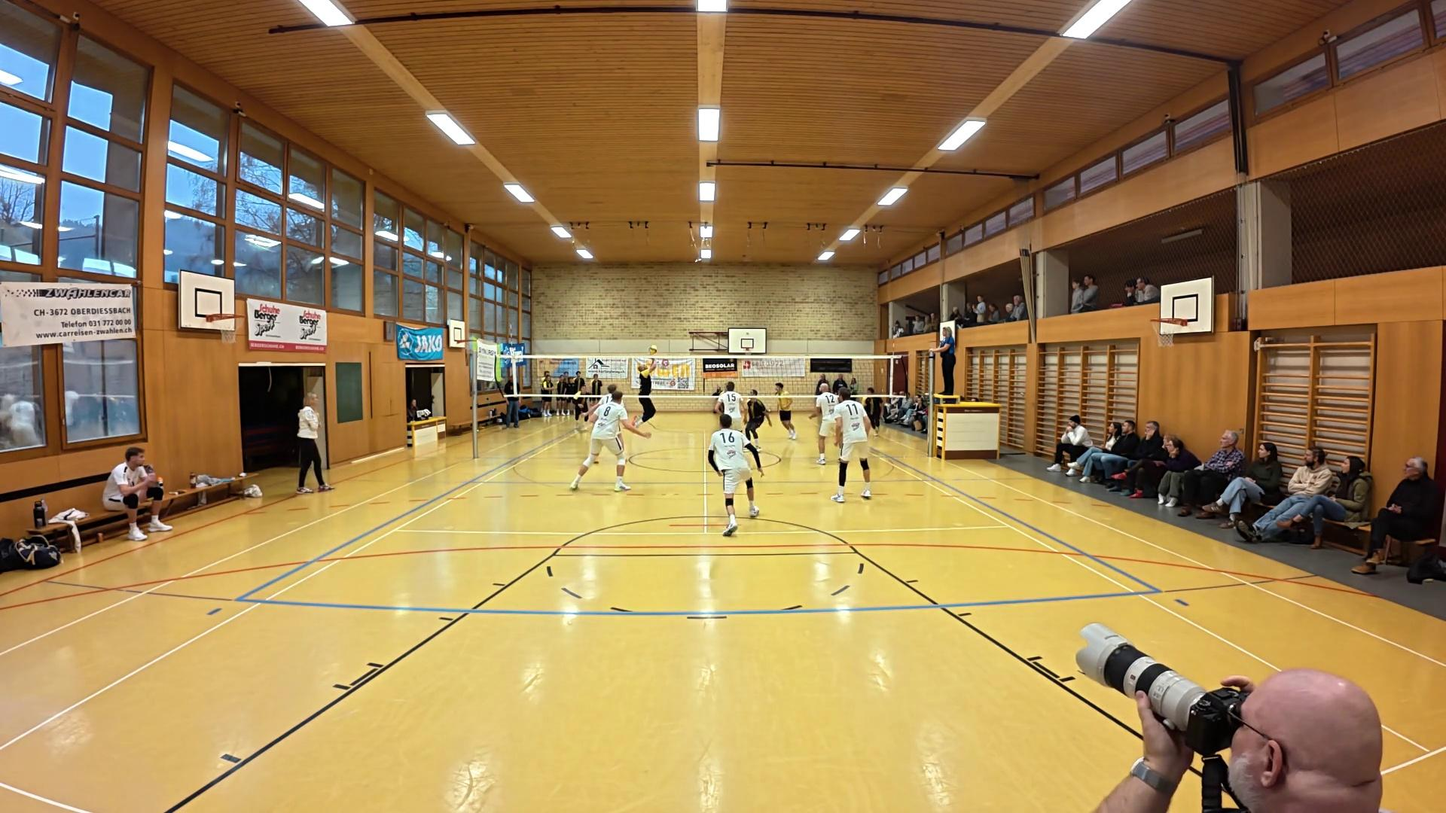Player: (706, 407, 762, 534), (570, 385, 633, 492), (826, 383, 872, 503), (743, 382, 769, 473), (810, 379, 835, 467), (772, 382, 798, 440), (568, 373, 592, 434), (711, 380, 737, 430)
Set: (633, 347, 661, 440)
ball: (647, 343, 659, 355)
